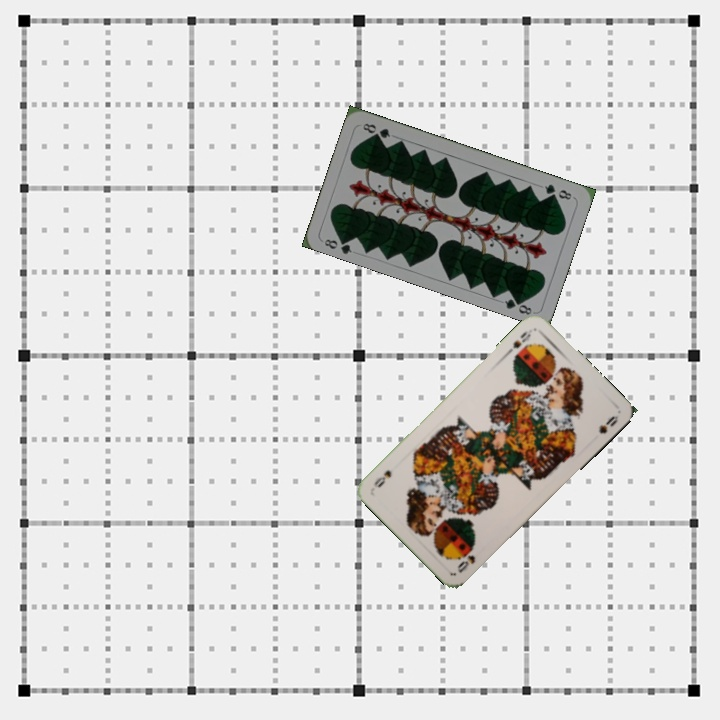G8: (320, 233, 354, 256), (540, 180, 574, 202)
SO: (502, 325, 535, 357), (453, 543, 478, 575)
